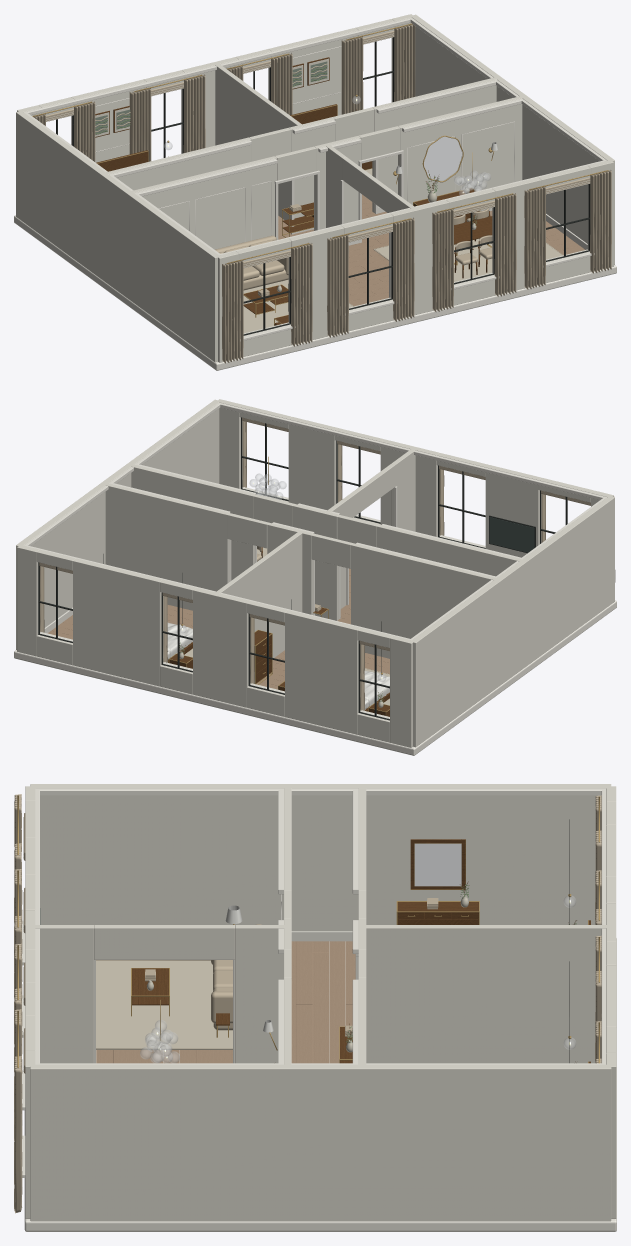
Rendered from sienna-house.glb.
3 renders of one model, top to bottom at view 1: azimuth 30°, elevation 25°; view 2: azimuth 150°, elevation 25°; view 3: azimuth 270°, elevation 25°, orthographic. The views are drawn at different scales.
Visible parts, largest first — view 1: Architecture optimized, SIENNA LV446-L01 | LV446-L01-01 optimized, SIENNA LV463-D01 | LV463-D01-01 optimized, SIENNA LV463-L21 | LV463-L21-01 optimized, SIENNA LV463-B01 | LV463-B01-01 optimized, SIENNA LV463-B02 | LV463-B02-01 optimized; view 2: Architecture optimized, SIENNA LV463-B02 | LV463-B02-01 optimized, SIENNA LV463-B01 | LV463-B01-01 optimized; view 3: Architecture optimized, SIENNA LV463-B71 | LV463-B71-01 optimized, SIENNA LV446-L01 | LV446-L01-01 optimized, SIENNA LV463-B61 | LV463-B61-01 optimized.
Part boxes in pixels (<box>): Architecture optimized: <box>14,14,616,370</box>; SIENNA LV446-L01 | LV446-L01-01 optimized: <box>243,284,288,317</box>; SIENNA LV463-D01 | LV463-D01-01 optimized: <box>454,216,492,265</box>; SIENNA LV463-L21 | LV463-L21-01 optimized: <box>282,202,313,237</box>; SIENNA LV463-B01 | LV463-B01-01 optimized: <box>290,104,372,170</box>; SIENNA LV463-B02 | LV463-B02-01 optimized: <box>96,150,148,171</box>; Architecture optimized: <box>14,399,616,755</box>; SIENNA LV463-B02 | LV463-B02-01 optimized: <box>364,671,389,711</box>; SIENNA LV463-B01 | LV463-B01-01 optimized: <box>167,622,192,662</box>; Architecture optimized: <box>14,784,616,1231</box>; SIENNA LV463-B71 | LV463-B71-01 optimized: <box>410,839,465,889</box>; SIENNA LV446-L01 | LV446-L01-01 optimized: <box>131,968,169,1016</box>; SIENNA LV463-B61 | LV463-B61-01 optimized: <box>396,901,479,924</box>.
Bounding box in the file's own units: 12.2 × 3.26 × 10.9.
Materials: 20 (5 with a texture image).
